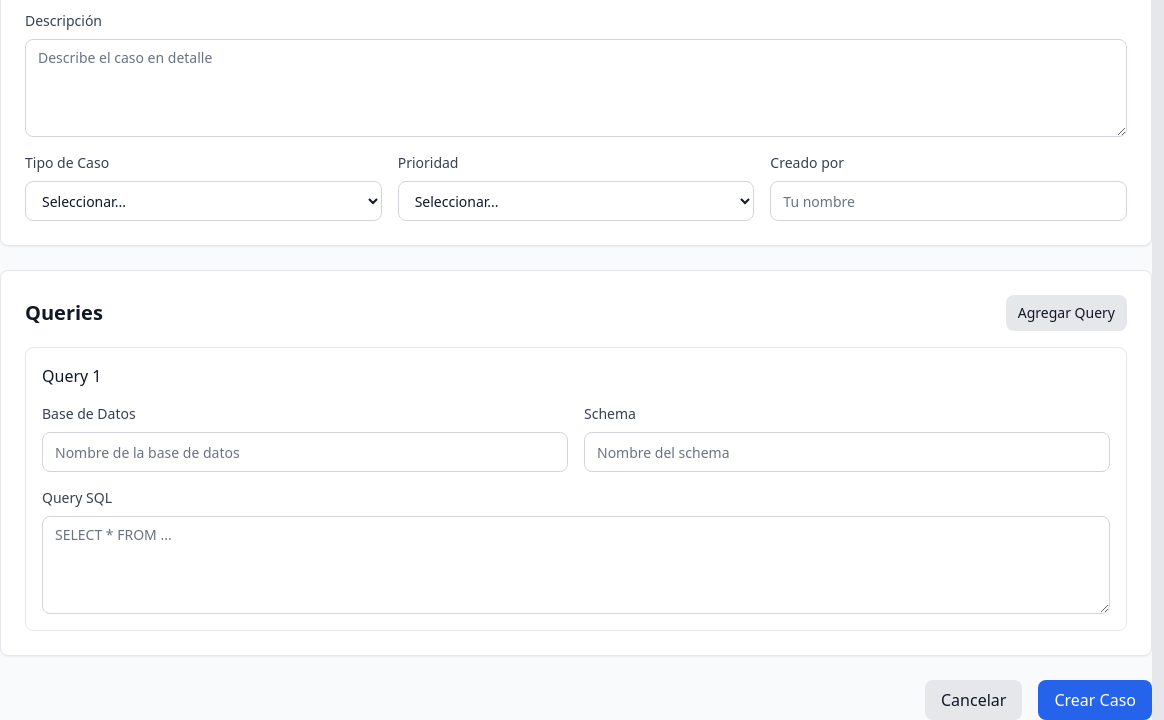
Scenario: CaseForm › shows validation error for empty title
(page scrolled)
Step 1. Click the button "Crear Caso" → click(1095, 700), box [1038,680,1152,719]
(page scrolled)
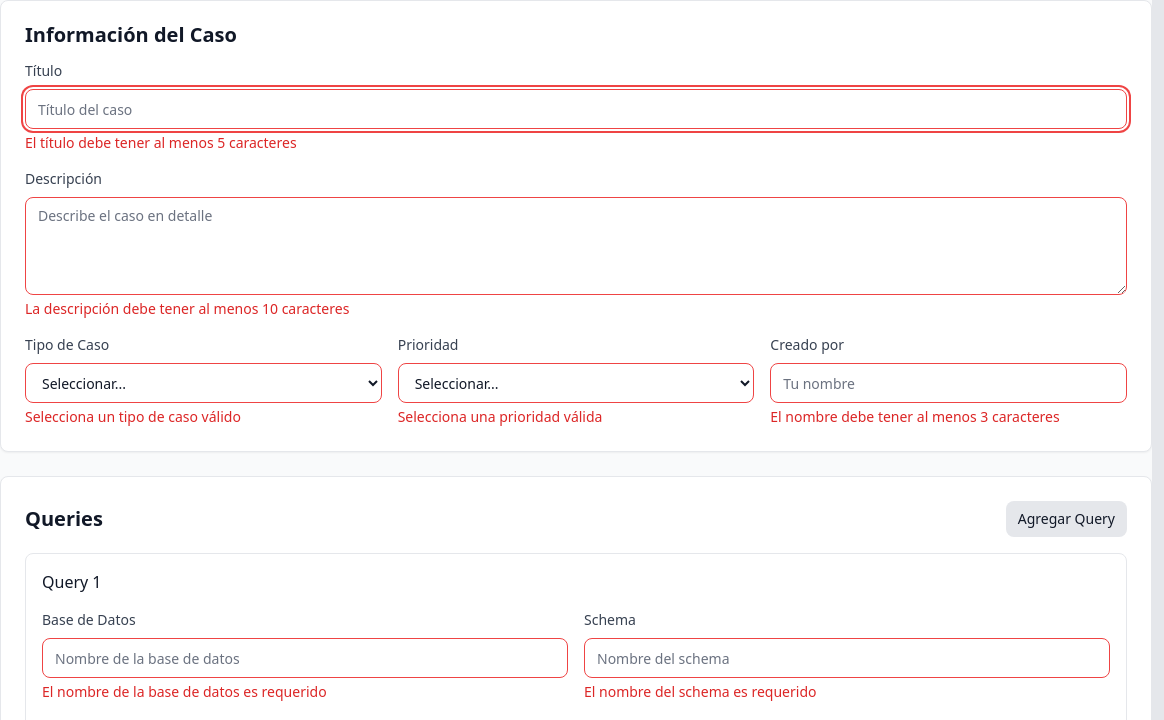
Check: the text "El título debe tener al menos 5 caracteres" is shown, box [25,133,297,152]
